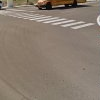crosswalk: (17, 13, 94, 28)
